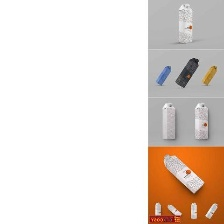carton: (160, 150, 208, 194), (156, 99, 179, 142), (190, 100, 211, 142), (173, 57, 201, 88), (176, 2, 194, 44), (152, 65, 174, 88), (200, 63, 219, 86), (204, 199, 219, 222), (187, 196, 199, 219), (165, 201, 181, 217), (151, 199, 162, 217)
